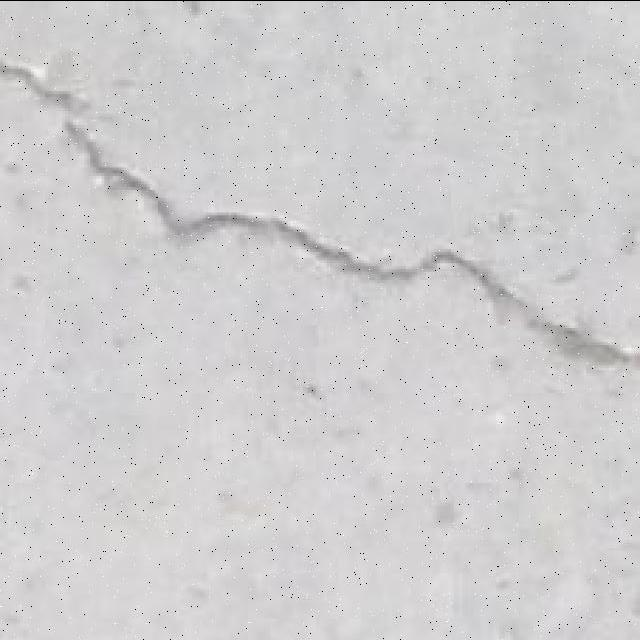Crack: (1, 56, 636, 372)
